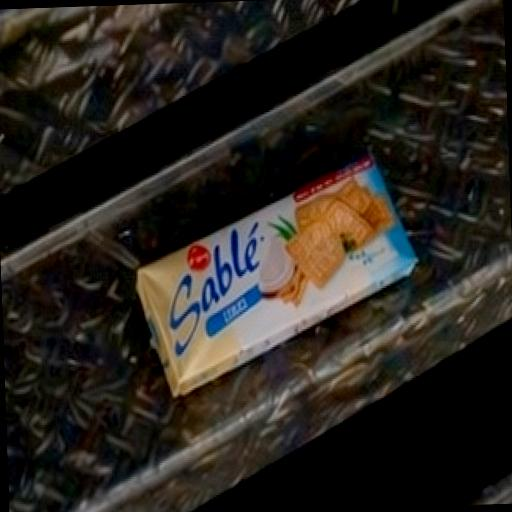sabl: (90, 128, 452, 410)
